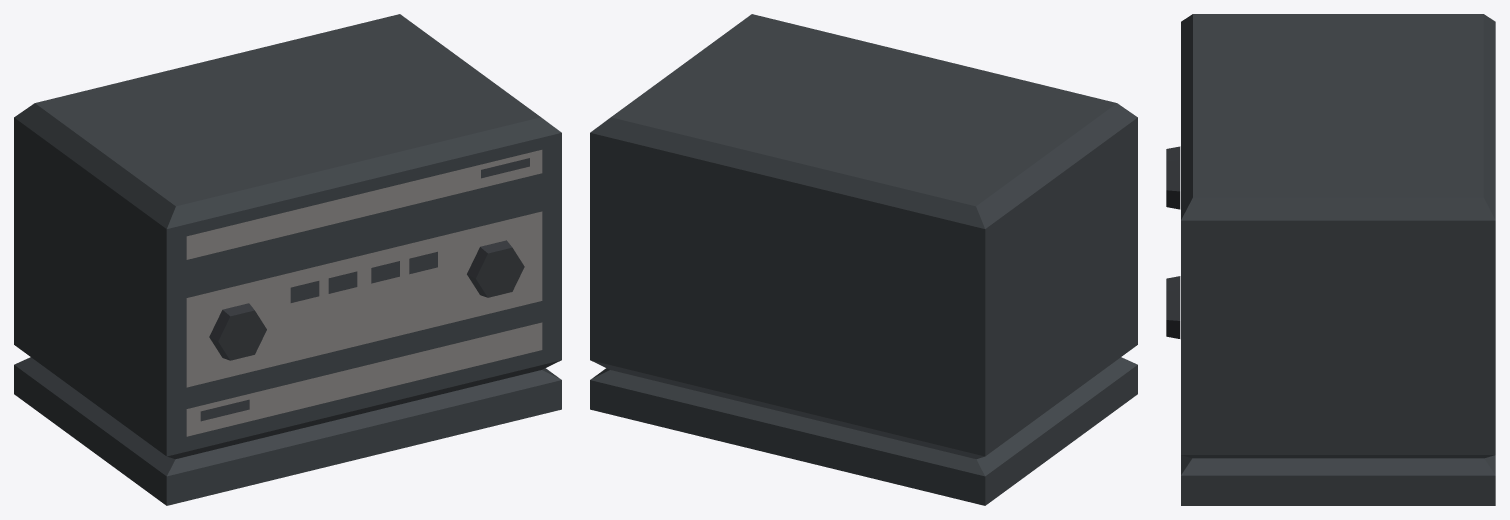
File: SM_Prop_Stereo_01.fbx
3 renders of one model, left to right at view 1: azimuth 30°, elevation 25°; view 2: azimuth 150°, elevation 25°; view 3: azimuth 270°, elevation 25°, orthographic. The views are drawn at different scales.
Visible parts, largest first — view 1: SM_Prop_Stereo_01; view 2: SM_Prop_Stereo_01; view 3: SM_Prop_Stereo_01.
Boxes of the visible parts, x1,y1,x2,y2 form: SM_Prop_Stereo_01: [14, 14, 561, 505]; SM_Prop_Stereo_01: [590, 14, 1137, 505]; SM_Prop_Stereo_01: [1166, 14, 1495, 505].
Size of the model in its own units: 47.72 by 33.66 by 33.43.
